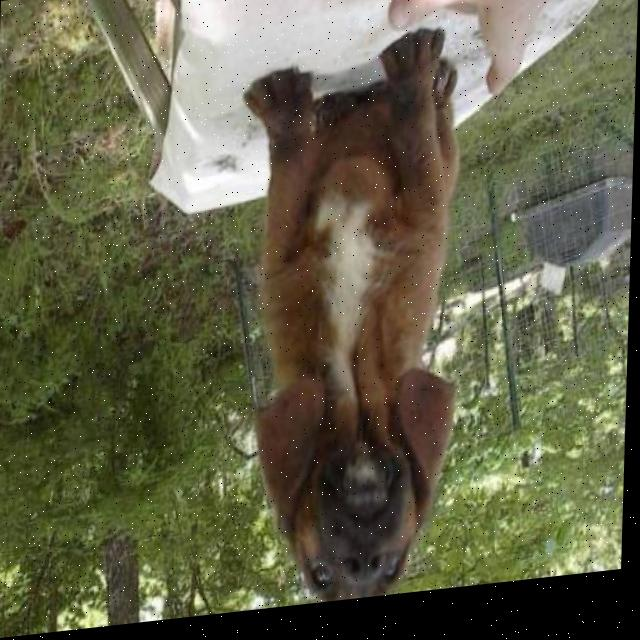dogs: (227, 34, 487, 619)
